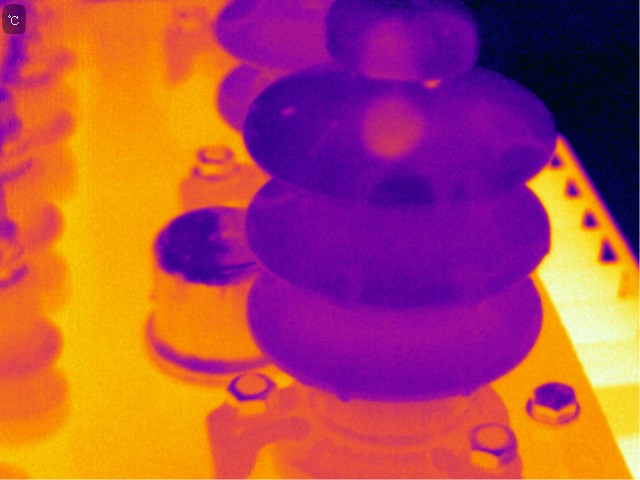Oil: (349, 93, 432, 165), (356, 20, 416, 85), (421, 72, 444, 91), (278, 102, 299, 122)
